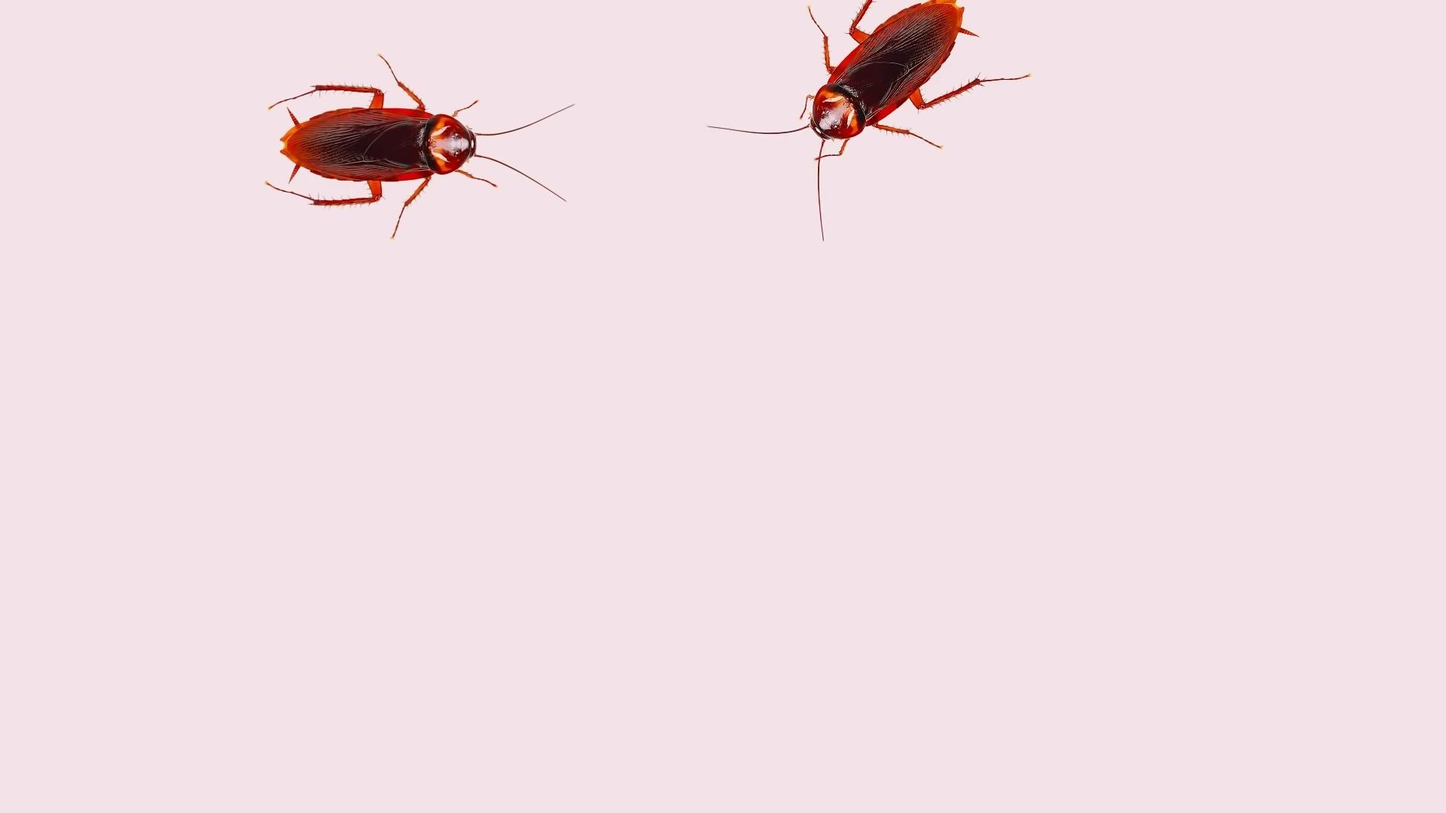cockroach: (693, 3, 1032, 234), (261, 51, 577, 238)
